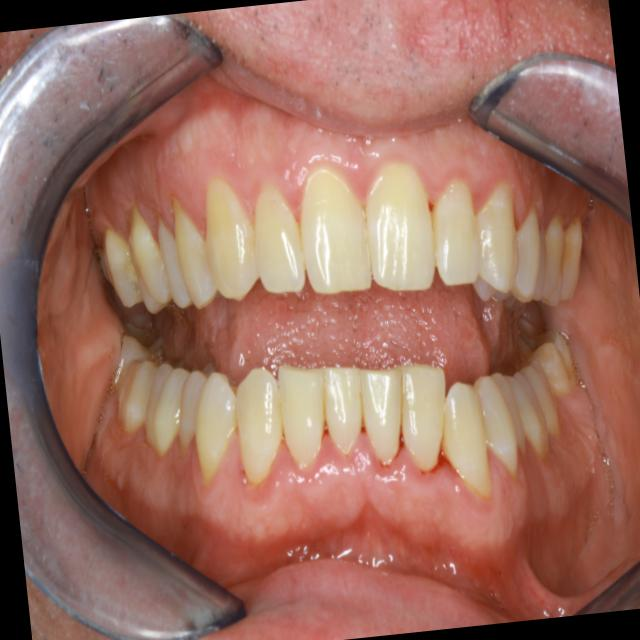tooth: (284, 151, 389, 312), (352, 146, 449, 315), (190, 165, 271, 314), (239, 171, 320, 308), (464, 164, 529, 312), (161, 179, 226, 324), (434, 367, 502, 505), (421, 164, 487, 301), (226, 358, 293, 491), (114, 198, 183, 326), (269, 353, 336, 484), (394, 347, 458, 482), (312, 350, 374, 470), (355, 354, 415, 477), (188, 366, 246, 493), (135, 350, 194, 465), (468, 366, 522, 486), (169, 354, 225, 467), (146, 205, 199, 320), (501, 363, 554, 471), (505, 194, 550, 312), (531, 194, 574, 316), (107, 348, 162, 442), (98, 219, 146, 316), (550, 199, 591, 309), (516, 352, 566, 441), (485, 366, 529, 464), (532, 327, 583, 405), (112, 311, 168, 364), (523, 214, 554, 309), (92, 243, 112, 289)
